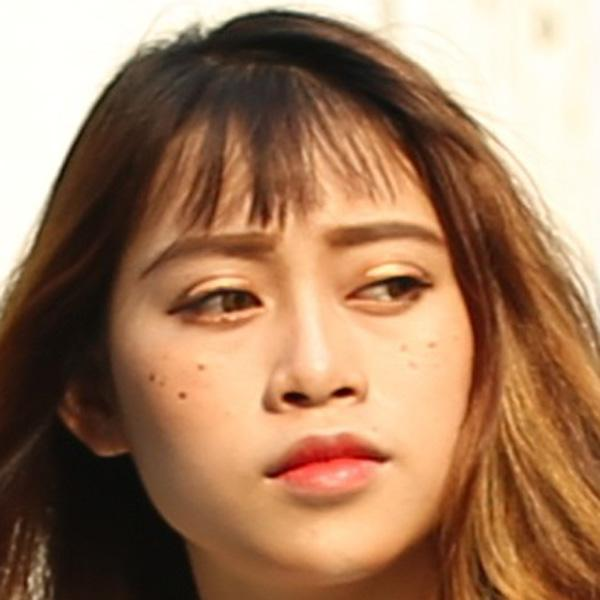Eyes: (159, 266, 279, 342), (339, 256, 440, 326)
